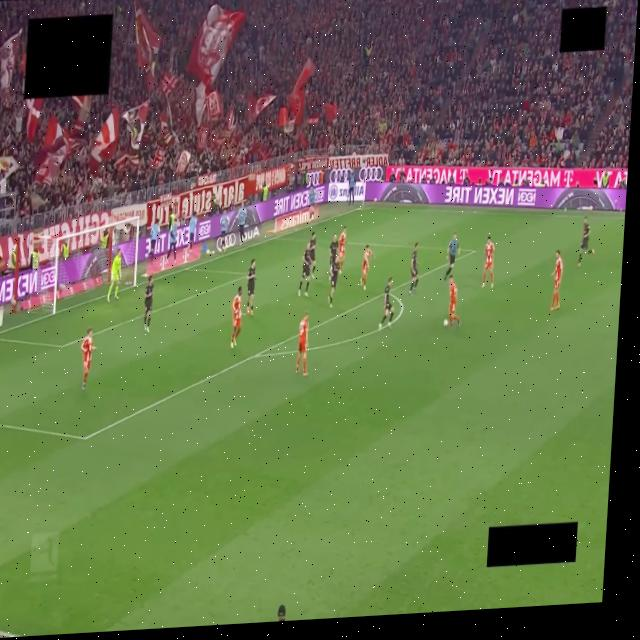ball: (443, 319, 447, 326)
player: (577, 216, 596, 267), (81, 328, 95, 390), (297, 242, 311, 297), (296, 313, 308, 376), (107, 248, 121, 302), (378, 278, 393, 328), (550, 250, 562, 310), (481, 236, 493, 288), (231, 287, 241, 348), (360, 244, 373, 289), (143, 276, 153, 333), (448, 275, 459, 326), (328, 256, 339, 307), (246, 259, 255, 316), (409, 242, 418, 295), (328, 235, 338, 280), (338, 227, 346, 274), (310, 232, 316, 278)
referee: (444, 233, 460, 280)
